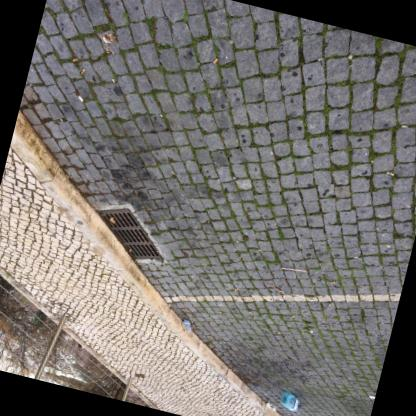Paper: (212, 57, 217, 64), (80, 67, 84, 73), (72, 57, 77, 61), (330, 280, 335, 283), (65, 173, 68, 177), (111, 78, 114, 82), (248, 311, 253, 313), (296, 310, 299, 313), (258, 248, 261, 251), (296, 339, 300, 341), (302, 317, 305, 319), (291, 315, 294, 317), (300, 329, 303, 331), (277, 331, 280, 333), (172, 293, 175, 295), (168, 303, 170, 306), (234, 287, 236, 290), (175, 217, 178, 219), (223, 340, 225, 342), (301, 356, 304, 357), (253, 316, 254, 319), (218, 311, 221, 312), (191, 265, 194, 266), (264, 392, 267, 393), (349, 412, 352, 413), (329, 303, 330, 305), (191, 321, 192, 323), (236, 288, 238, 289)
Plastic: (280, 391, 301, 410), (183, 318, 191, 331)
